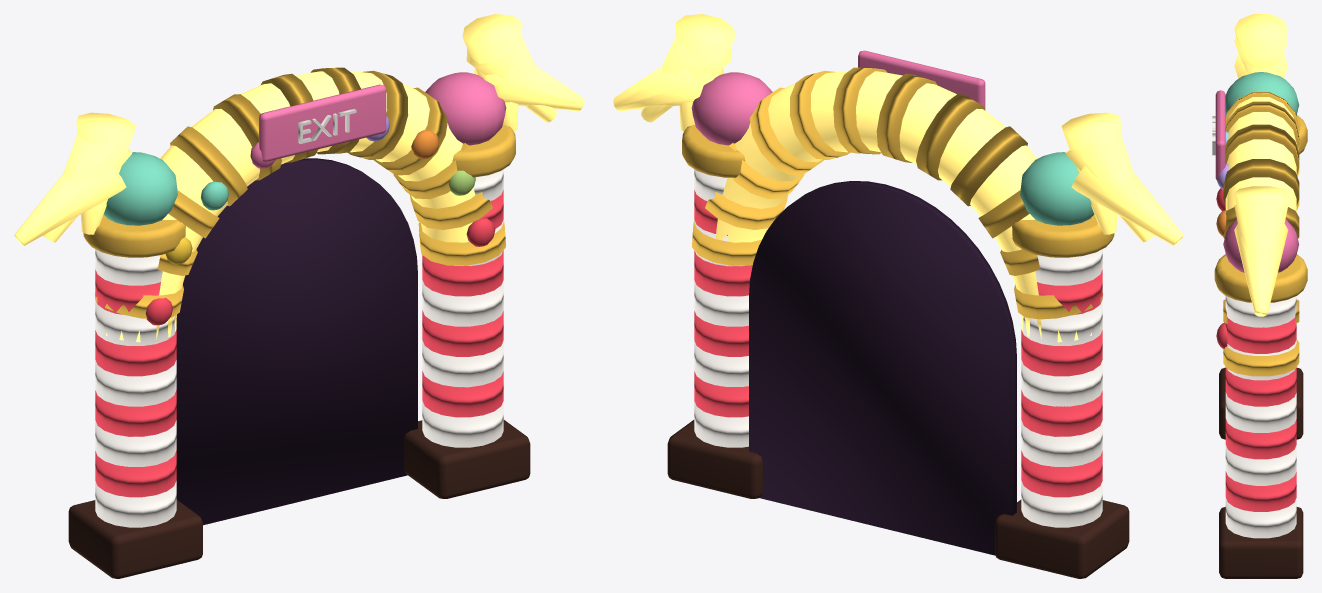
File: candy_portal_arch.glb
3 views of the same model, side by side, from view 1: azimuth 30°, elevation 25°; view 2: azimuth 150°, elevation 25°; view 3: azimuth 270°, elevation 25° (orthographic). The views are drawn at different scales.
Parts seen in each view (by area): view 1: PortalArch; view 2: PortalArch; view 3: PortalArch.
Part boxes in pixels (x1,y1,x2,y2): PortalArch: (14, 14, 584, 578); PortalArch: (613, 14, 1183, 578); PortalArch: (1212, 14, 1307, 578).
Size of the model in its own units: 6.75 by 5.04 by 1.13.
